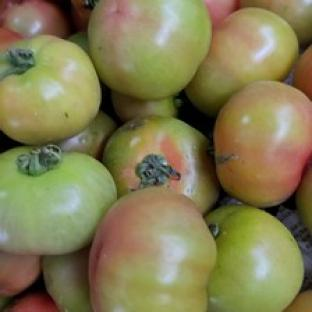Tomato: (90, 187, 217, 311), (0, 145, 116, 254), (186, 7, 298, 118), (214, 81, 311, 207), (102, 116, 220, 213), (0, 35, 101, 144), (205, 205, 303, 311), (42, 247, 93, 311), (56, 111, 116, 160), (112, 91, 178, 122), (0, 251, 41, 296), (5, 290, 59, 311), (296, 159, 311, 233), (292, 45, 311, 100), (283, 289, 311, 311), (0, 27, 23, 51)
